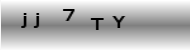7: (61, 7, 76, 22)
T: (90, 17, 105, 31)
Y: (111, 15, 126, 29)
j: (20, 12, 29, 29), (33, 12, 42, 29)
